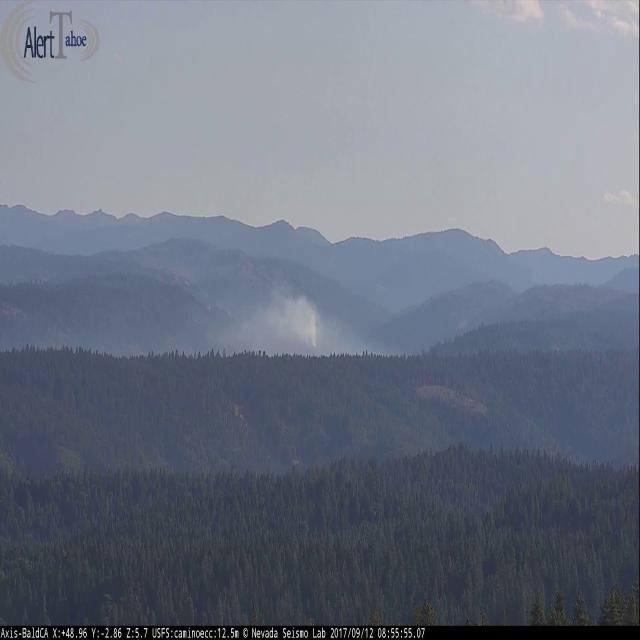smoke: (264, 284, 329, 350)
